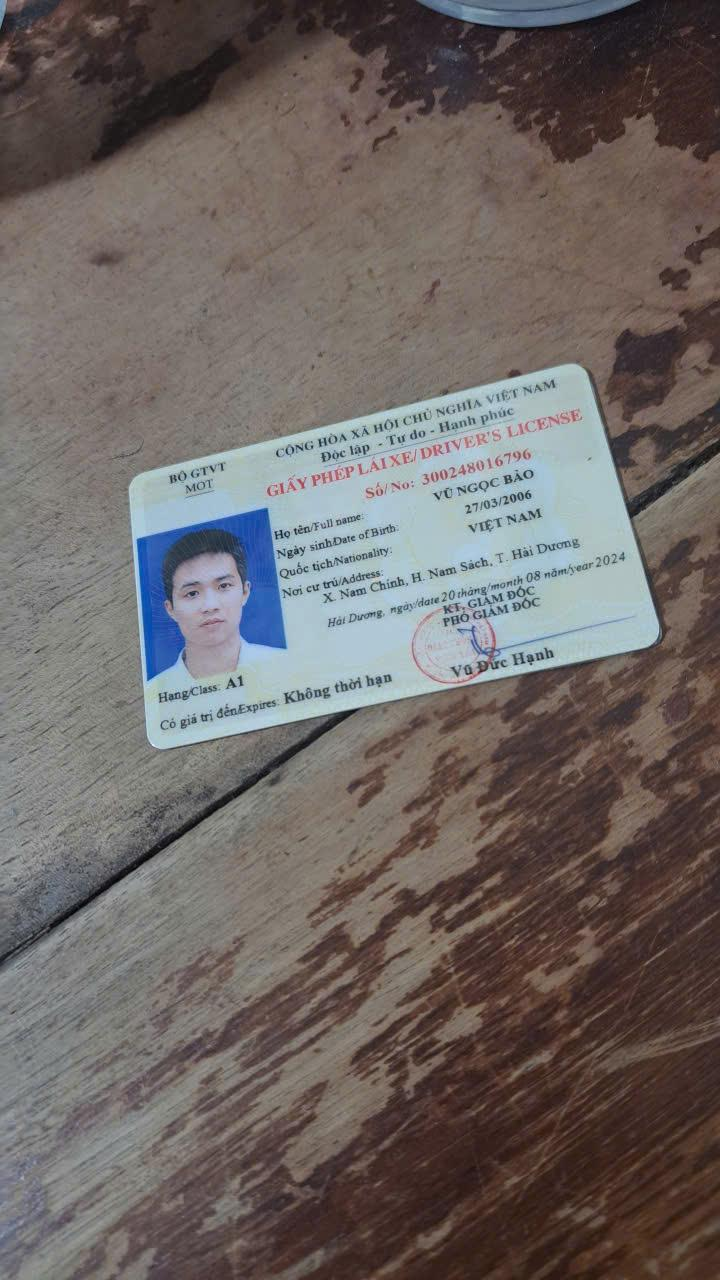gplx: (120, 361, 665, 757)
